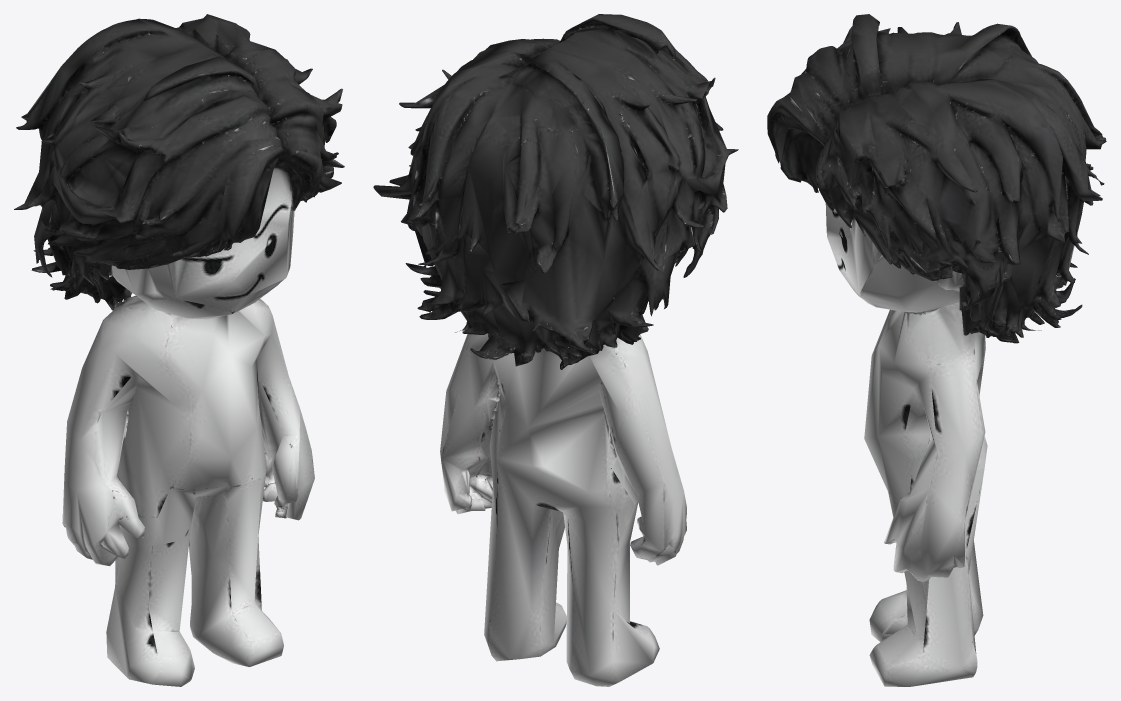
File: girlChar_Smirk_2.glb
3 views of the same model, side by side, from view 1: azimuth 30°, elevation 25°; view 2: azimuth 150°, elevation 25°; view 3: azimuth 270°, elevation 25° (orthographic).
Visible parts, largest first — view 1: Char_Girl_Smirk; view 2: Char_Girl_Smirk; view 3: Char_Girl_Smirk.
Boxes of the visible parts, x1=… form: Char_Girl_Smirk: x1=14, y1=14, x2=344, y2=686; Char_Girl_Smirk: x1=373, y1=14, x2=738, y2=686; Char_Girl_Smirk: x1=767, y1=14, x2=1106, y2=686.
Bounding box in the file's own units: 0.6016 × 1.2 × 0.5927.
Materials: 1 (1 with a texture image).
